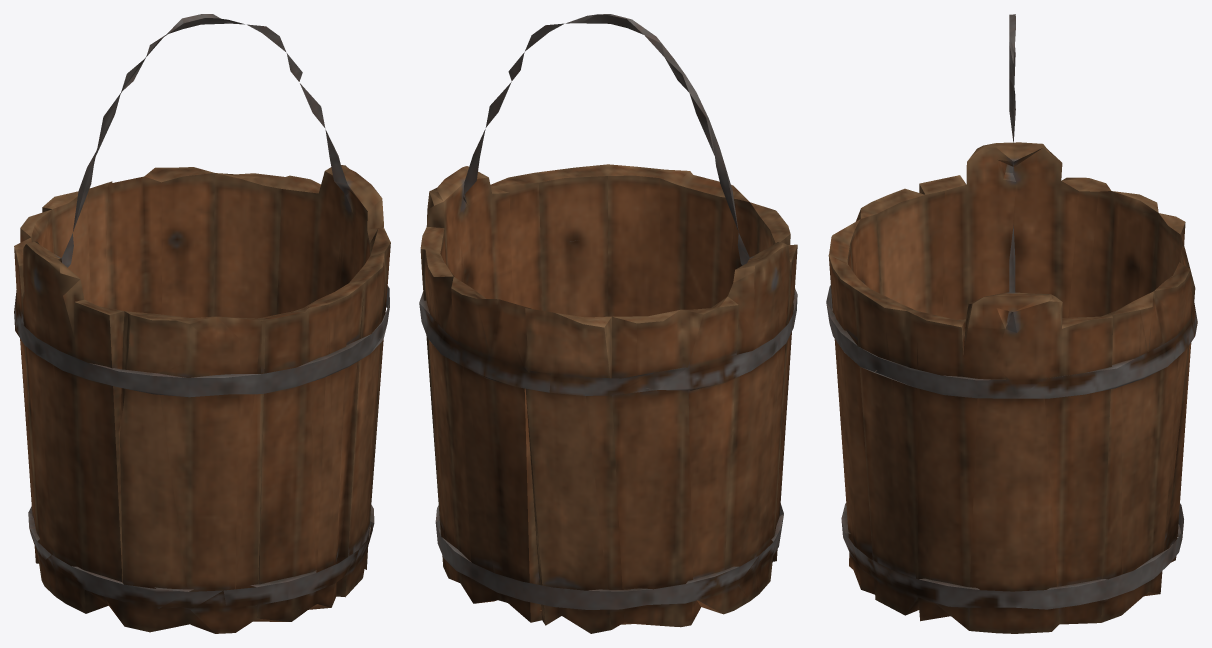
The model's file is bucket_wood.glb.
The picture shows the model from 3 angles, left to right: view 1: azimuth 30°, elevation 25°; view 2: azimuth 150°, elevation 25°; view 3: azimuth 270°, elevation 25°; orthographic projection.
Visible parts, largest first — view 1: mesh; view 2: mesh; view 3: mesh.
Part boxes in pixels (left/top/right/bottom): mesh: left=14, top=14, right=390, bottom=633; mesh: left=419, top=14, right=797, bottom=633; mesh: left=826, top=14, right=1197, bottom=633.
Size of the model in its own units: 0.3489 by 0.5499 by 0.3416.
Materials: 1 (1 with a texture image).
